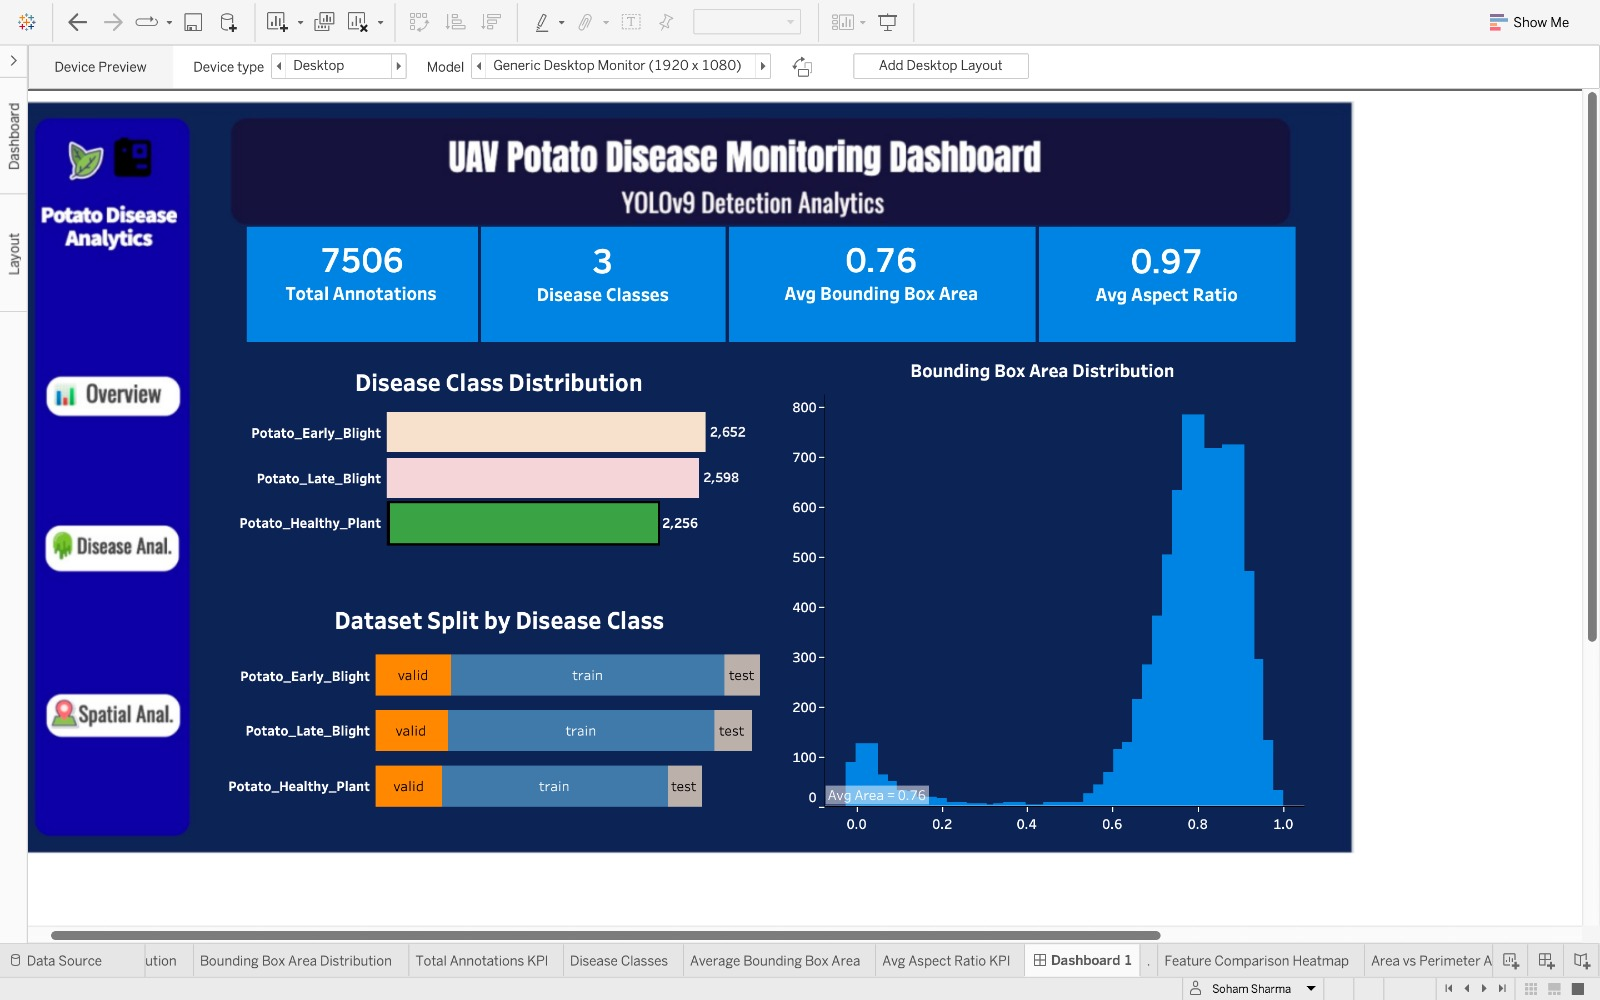

What the dashboard file says about the page in this screenshot:
{"tool":"tableau","page":{"name":"Dashboard 1","canvas":[1920,1080],"ordinal":0},"visuals":[{"type":"worksheet","title":"Total Annotations KPI","mark":"Text","box":[207,124,208,104]},{"type":"worksheet","title":"Disease Classes ","mark":"Text","box":[418,124,220,104]},{"type":"worksheet","title":"Average Bounding Box Area","mark":"Text","box":[641,124,276,115]},{"type":"worksheet","title":"Avg Aspect Ratio KPI","mark":"Text","box":[920,124,231,104]},{"type":"worksheet","title":"Bounding Box Area Distribution","mark":"Automatic","rows":["bbox_area"],"cols":["Bbox Area (bin)"],"box":[691,238,468,438]},{"type":"worksheet","title":"Disease Distribution","mark":"Automatic","rows":["disease_class"],"cols":["disease_class"],"box":[193,245,482,166]},{"type":"dashboard-object","box":[28,395,123,38]},{"type":"worksheet","title":"Dataset Split Distribution","mark":"Automatic","rows":["disease_class"],"cols":["dataset_split"],"box":[183,459,503,193]},{"type":"dashboard-object","box":[30,546,117,36]}]}

Visuals, with their boxes on the page's 1920x1080 design canvas (x1, y1, x2, y2). These are canvas units, not pixel positions in the 1600x1000 screenshot, which may show the page scaled, cropped or inside an application window:
"Total Annotations KPI" worksheet (Text marks): {"left": 207, "top": 124, "right": 415, "bottom": 228}
"Disease Classes " worksheet (Text marks): {"left": 418, "top": 124, "right": 638, "bottom": 228}
"Average Bounding Box Area" worksheet (Text marks): {"left": 641, "top": 124, "right": 917, "bottom": 239}
"Avg Aspect Ratio KPI" worksheet (Text marks): {"left": 920, "top": 124, "right": 1151, "bottom": 228}
"Bounding Box Area Distribution" worksheet: {"left": 691, "top": 238, "right": 1159, "bottom": 676}
"Disease Distribution" worksheet: {"left": 193, "top": 245, "right": 675, "bottom": 411}
dashboard-object: {"left": 28, "top": 395, "right": 151, "bottom": 433}
"Dataset Split Distribution" worksheet: {"left": 183, "top": 459, "right": 686, "bottom": 652}
dashboard-object: {"left": 30, "top": 546, "right": 147, "bottom": 582}
